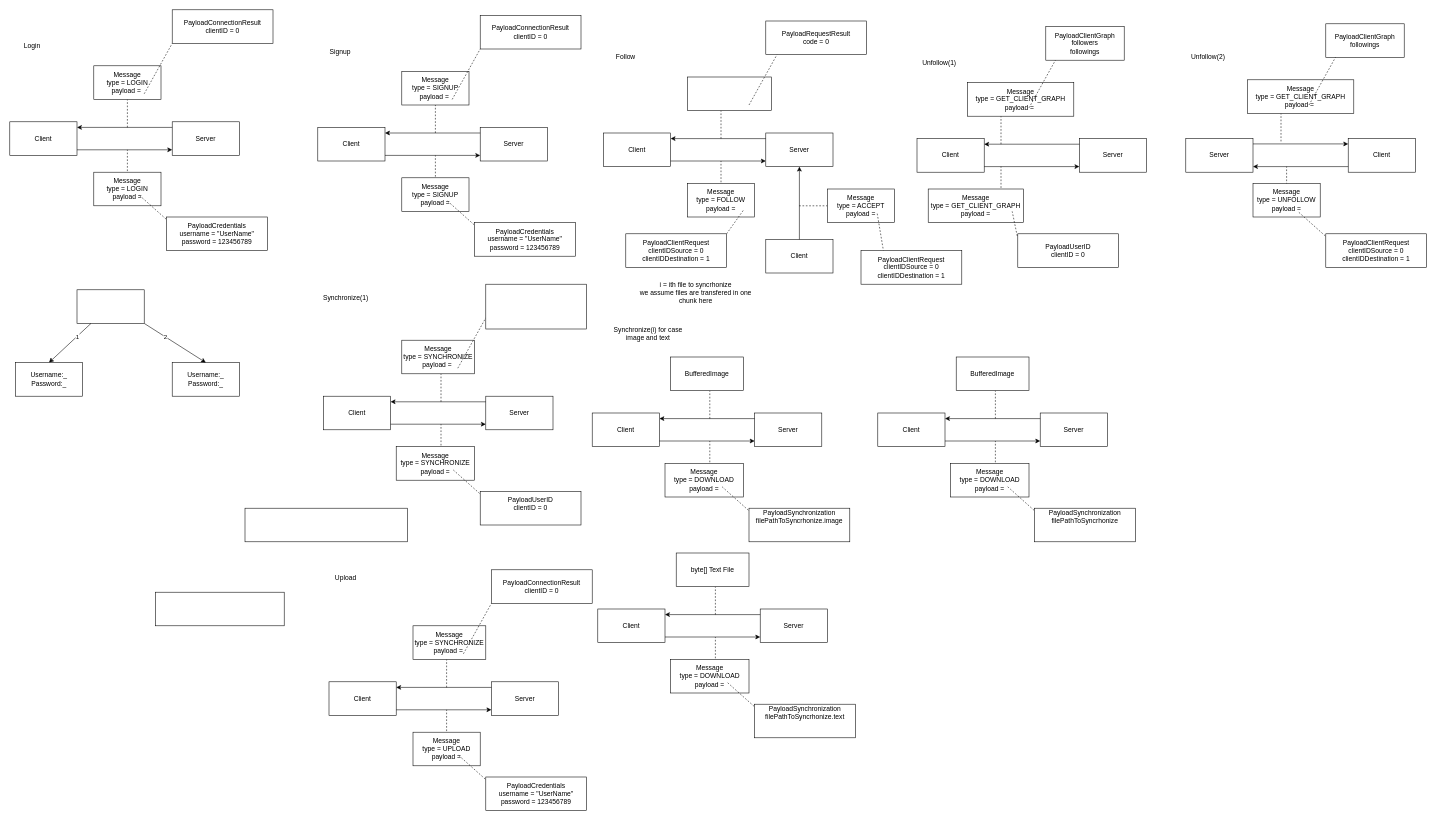
This 1436x820 diagram has some shape labels left out. Here are the shapes that lost their labels. From the top down, the centre of each, then its label:
At (x=729, y=93): "Message type = REQUEST_RESULT payload =".
At (x=110, y=306): "ClientActions: 1) Login 2) Signup".
At (x=536, y=306): "PayloadSynchronization filePathsToSynchronize fileChecksums".
At (x=325, y=525): "Upload Photo: Copy image in his local directory".
At (x=219, y=609): "Profile_31clientX.txt clientID posted Photo_name".
